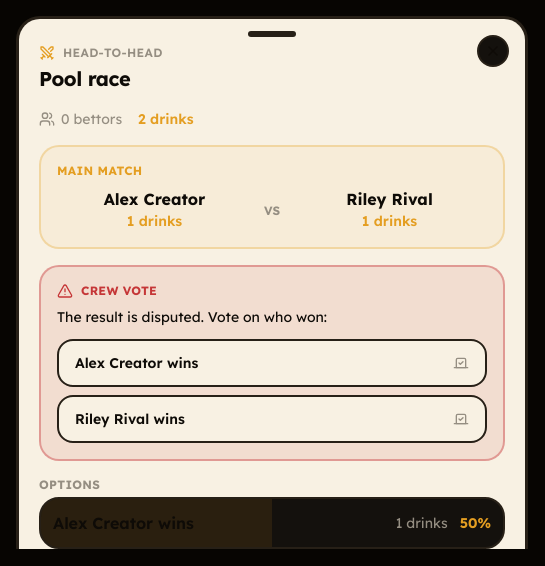
Test: BetDetailModal › resets the dispute vote state when the selected bet changes
Later steps or results of the test are not shown.
Step 1. Click the button "Alex Creator wins" → (137,363), box [57,339,487,387]
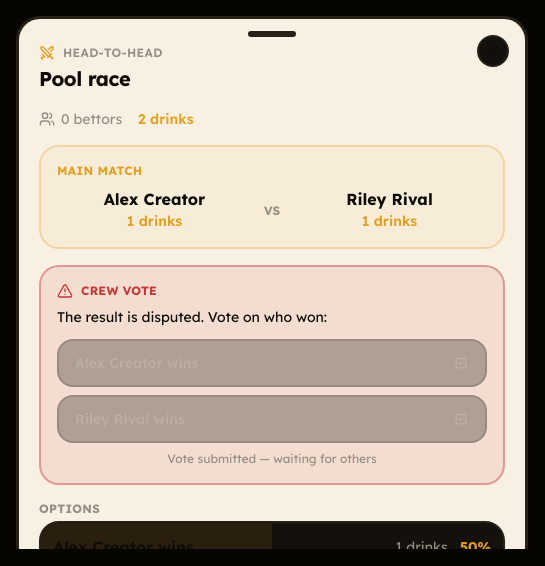
Expected: the text "Vote submitted — waiting for others" is shown, [167,451,377,466]
